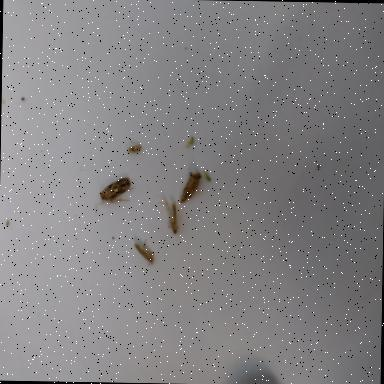pbw: (96, 176, 136, 214), (179, 168, 202, 204), (162, 197, 179, 234), (132, 237, 154, 262), (126, 140, 141, 154), (204, 170, 212, 183)
